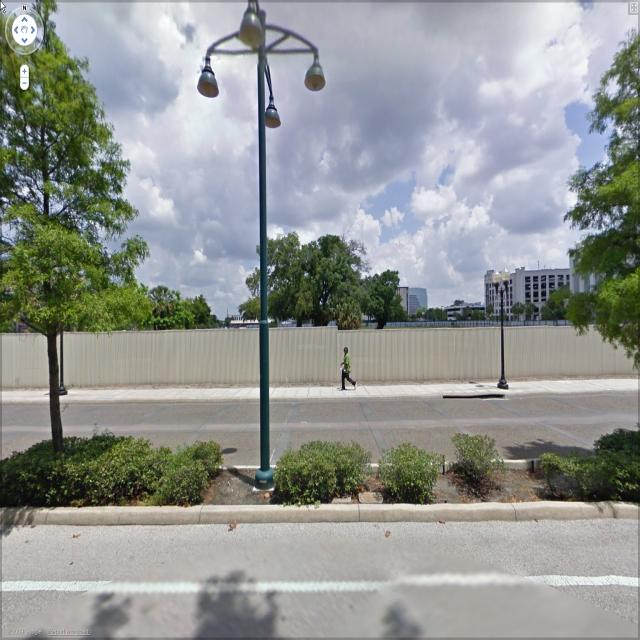b_1: (489, 263, 587, 329), (390, 278, 438, 326)
